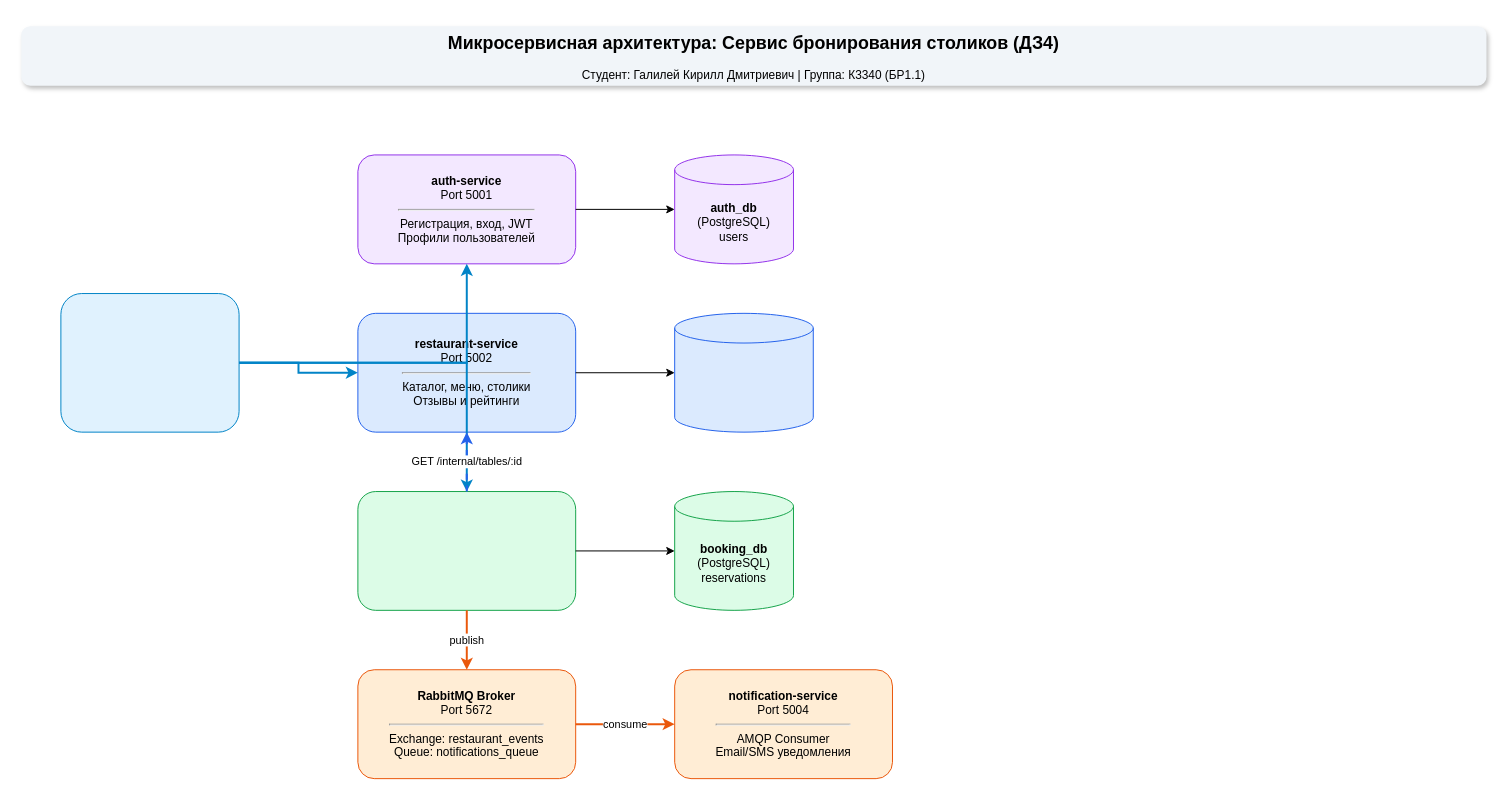
The diagram is 1509 pixels wide and 796 high, and some of its shapes have lost their labels. Here are the shapes that lost their labels. From the top down, the centre of each, then its label:
At point 149,362: "API Gateway (Nginx) Port 5000 / 80 Маршрутизация SSL-терминация".
At point 743,372: "restaurant_db (PostgreSQL) restaurants, tables menu, reviews".
At point 466,550: "booking-service Port 5003 Бронирование столиков Защита от овербукинга".
